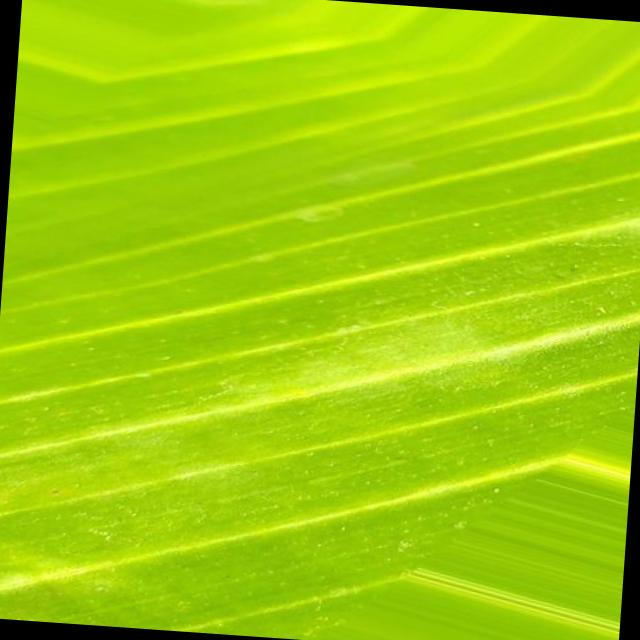Banana_Healthy: (162, 163, 487, 476)
